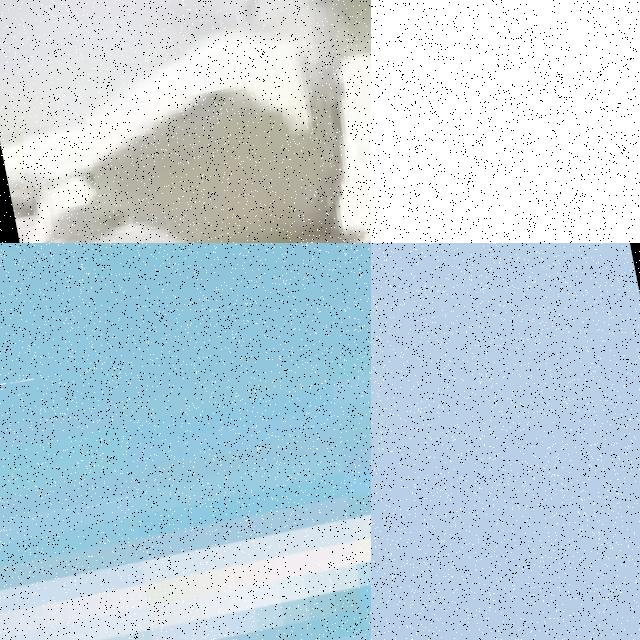drone: (0, 283, 371, 640), (0, 0, 371, 243)
